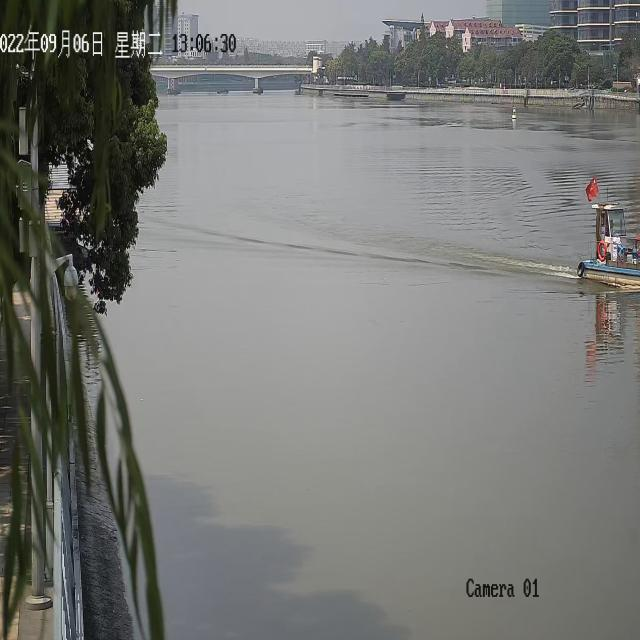ship: (576, 174, 640, 288), (216, 86, 228, 93)
